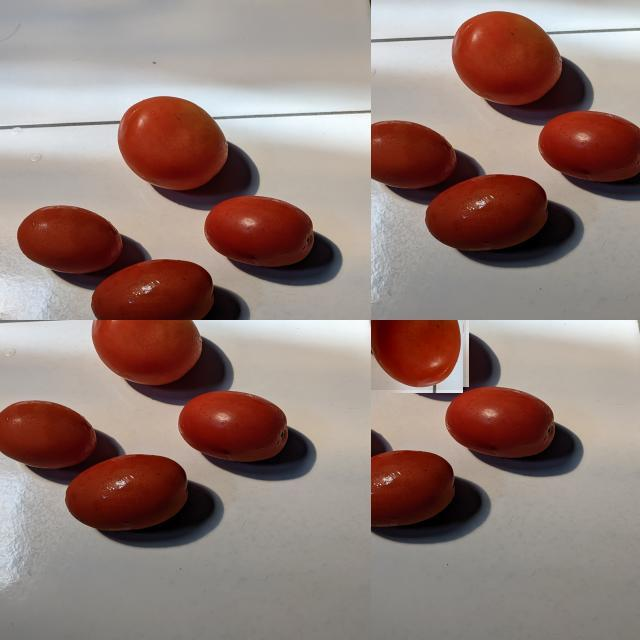Fresh Tomato: (446, 383, 558, 466), (371, 448, 467, 534), (371, 320, 466, 390)
